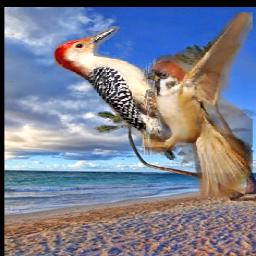Sparrow: (142, 13, 253, 198)
Woodpecker: (51, 26, 199, 160)
